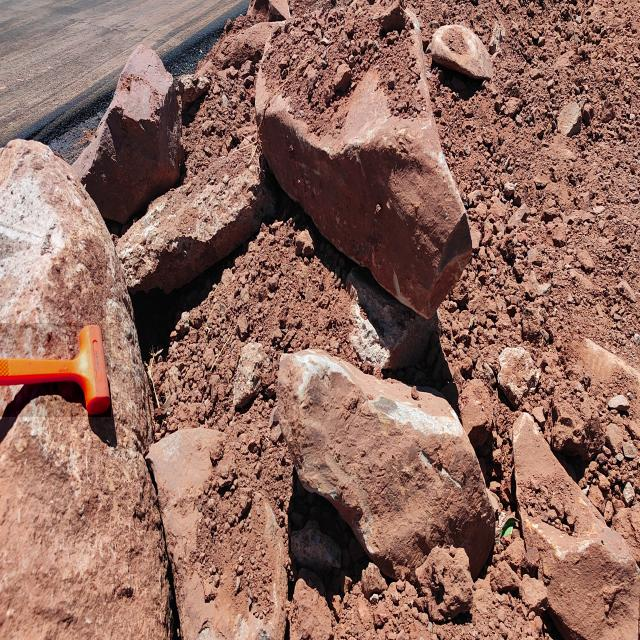Orange_hammer: (0, 323, 111, 418)
